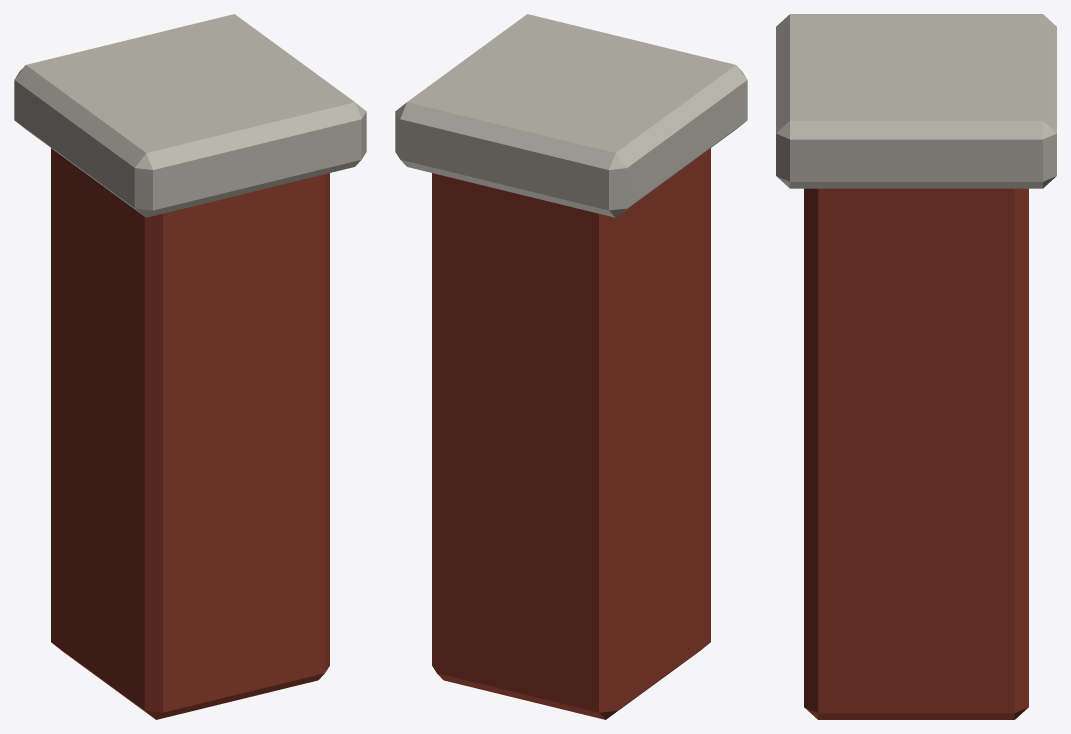
Rendered from chimney.glb.
The picture shows the model from 3 angles, left to right: view 1: azimuth 30°, elevation 25°; view 2: azimuth 150°, elevation 25°; view 3: azimuth 270°, elevation 25°; orthographic projection. The views are drawn at different scales.
Parts seen in each view (by area): view 1: chimney_shaft, chimney_cap; view 2: chimney_shaft, chimney_cap; view 3: chimney_shaft, chimney_cap.
Part boxes in pixels (x1,y1,x2,y2): chimney_shaft: [51, 148, 329, 719]; chimney_cap: [14, 14, 366, 217]; chimney_shaft: [432, 148, 710, 719]; chimney_cap: [395, 14, 747, 217]; chimney_shaft: [804, 188, 1028, 719]; chimney_cap: [776, 14, 1056, 188].
Bounding box in the file's own units: 0.3 × 0.72 × 0.3.
